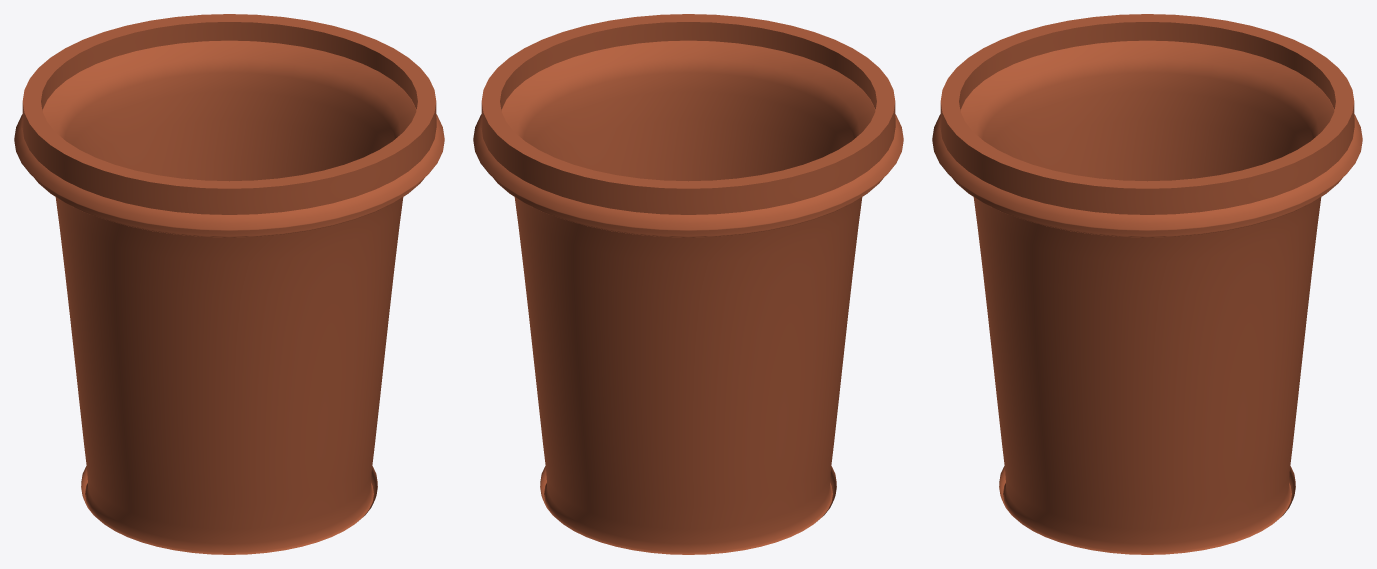
The model's file is pot_terracotta_8in.glb.
3 renders of one model, left to right at view 1: azimuth 30°, elevation 25°; view 2: azimuth 150°, elevation 25°; view 3: azimuth 270°, elevation 25°, orthographic.
Visible parts, largest first — view 1: pot_terracotta_8in; view 2: pot_terracotta_8in; view 3: pot_terracotta_8in.
Part boxes in pixels (bbox=[...]): pot_terracotta_8in: bbox=[14, 14, 444, 554]; pot_terracotta_8in: bbox=[473, 14, 903, 554]; pot_terracotta_8in: bbox=[932, 14, 1362, 554].
Size of the model in its own units: 0.2115 by 0.2127 by 0.2115.
